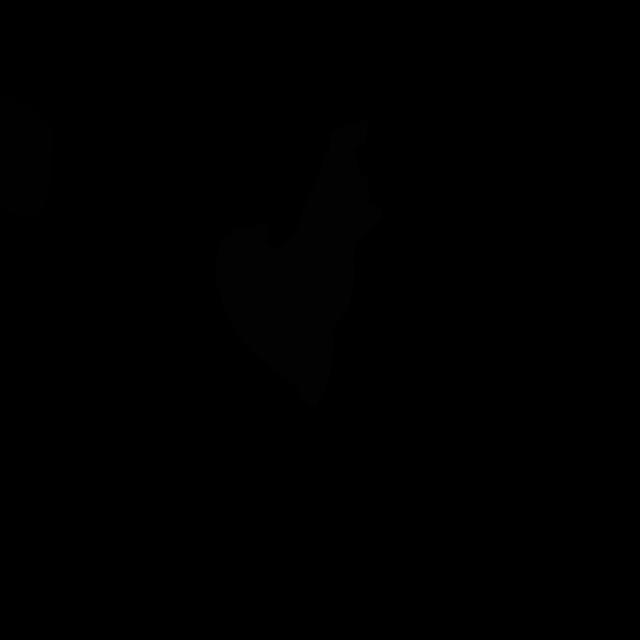cardboard: (216, 118, 383, 408)
rigid_plastic: (0, 92, 53, 219)
